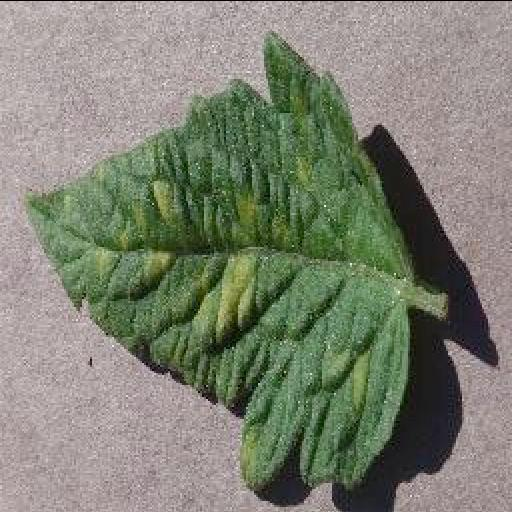disease_tomato: (22, 25, 414, 493)
